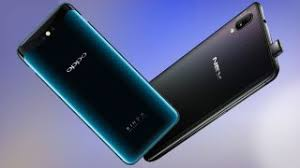oppo: (14, 2, 179, 164)
